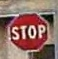stop: (6, 11, 49, 51)
